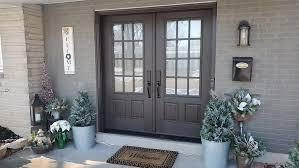door: (155, 6, 215, 146), (99, 12, 156, 132)
light: (237, 21, 253, 48)
